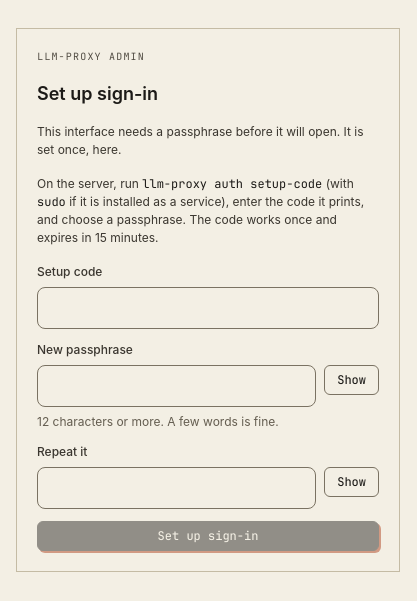
Test: SetupView › shows the server's reason when the code is wrong
The width and height of the screenshot is (417, 601).
In the field labelled "Setup code": point(208, 308) [37, 287, 379, 329], type "ABCD-2345"
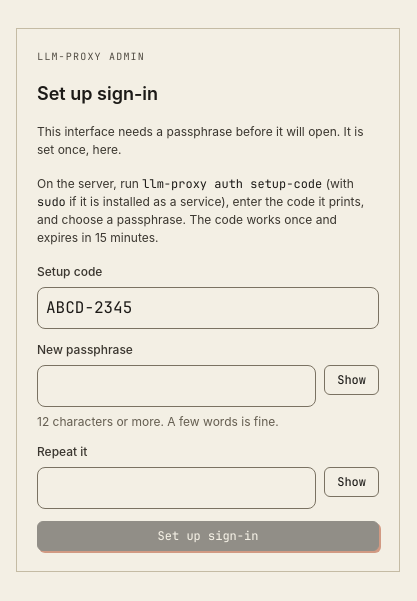
In the password field labelled "New passphrase": point(177, 386) [37, 365, 316, 407], type "correct horse battery"
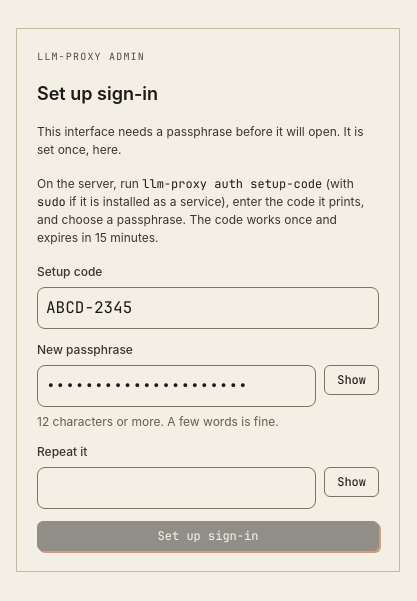
In the password field labelled "Repeat it": point(177, 488) [37, 467, 316, 509], type "correct horse battery"
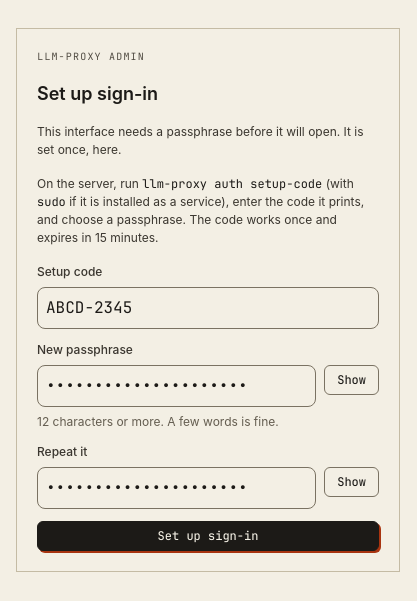
Submit the form, box [37, 263, 379, 551]
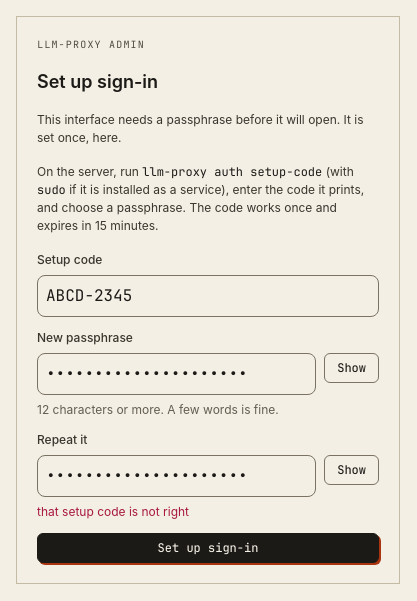
expect the text "that setup code is not right" is shown: met, box [37, 504, 189, 519]
